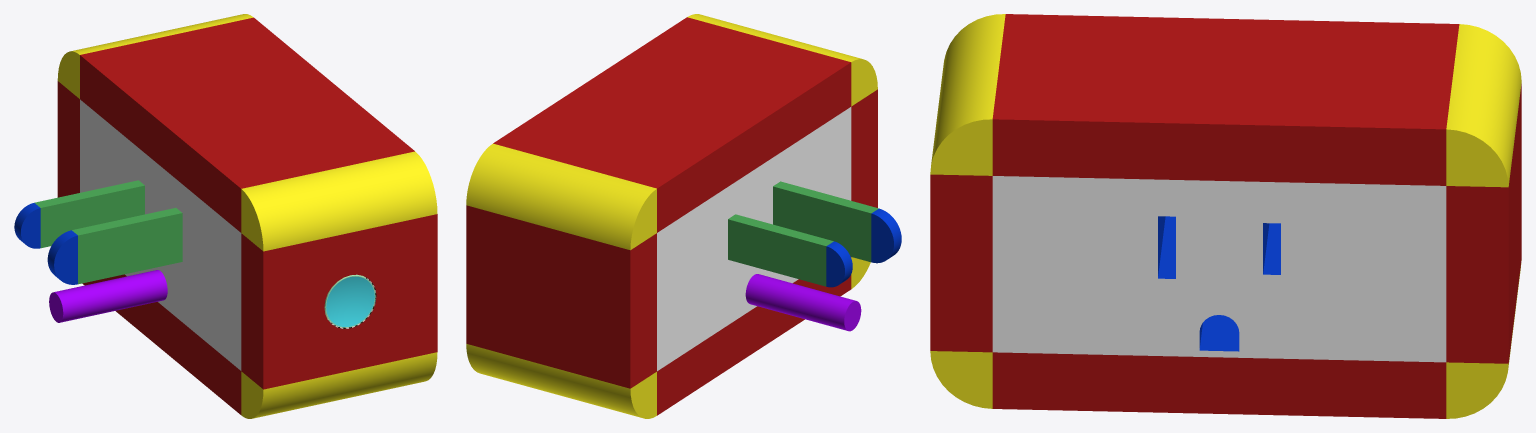
File: Case_Study_SmartSwitch_10A.glb
3 renders of one model, left to right at view 1: azimuth 30°, elevation 25°; view 2: azimuth 150°, elevation 25°; view 3: azimuth 270°, elevation 25°, orthographic. The views are drawn at different scales.
Parts seen in each view (by area): view 1: Part 2, Part, Part 7, Part 8, Part 9, Part 6, Part 4; view 2: Part 2, Part, Part 7, Part 8, Part 9, Part 6; view 3: Part 2, Part 7, Part, Part 6.
Boxes of the visible parts, x1,y1,x2,y2 form: Part 2: (57, 17, 437, 414); Part: (57, 14, 437, 418); Part 7: (80, 99, 241, 370); Part 8: (34, 180, 182, 284); Part 9: (49, 270, 167, 322); Part 6: (14, 203, 77, 284); Part 4: (326, 276, 374, 326); Part 2: (466, 17, 877, 415); Part: (466, 14, 877, 418); Part 7: (657, 107, 851, 371); Part 8: (728, 181, 878, 286); Part 9: (745, 274, 861, 331); Part 6: (826, 208, 901, 287); Part 2: (930, 14, 1521, 418); Part 7: (992, 176, 1446, 362); Part: (930, 14, 1521, 418); Part 6: (1158, 216, 1280, 351).
Bounding box in the file's own units: 0.0574 × 0.0406 × 0.0752.
10 materials, 2 textured.
